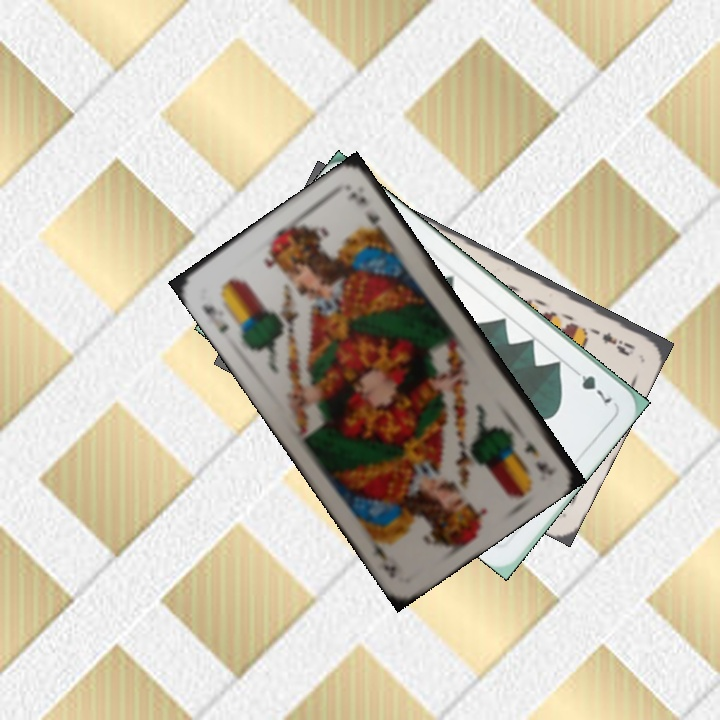E9: (583, 324, 638, 358)
EK: (198, 300, 232, 337), (521, 437, 551, 477)
G7: (567, 363, 616, 406)
